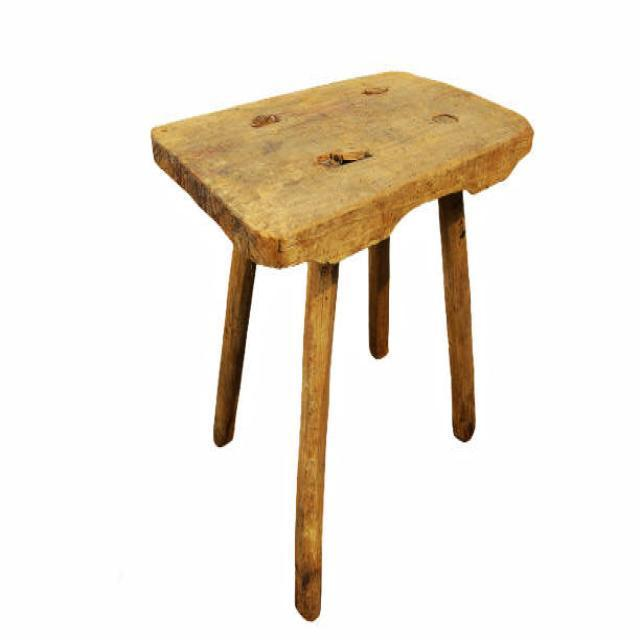table: (150, 68, 534, 622)
